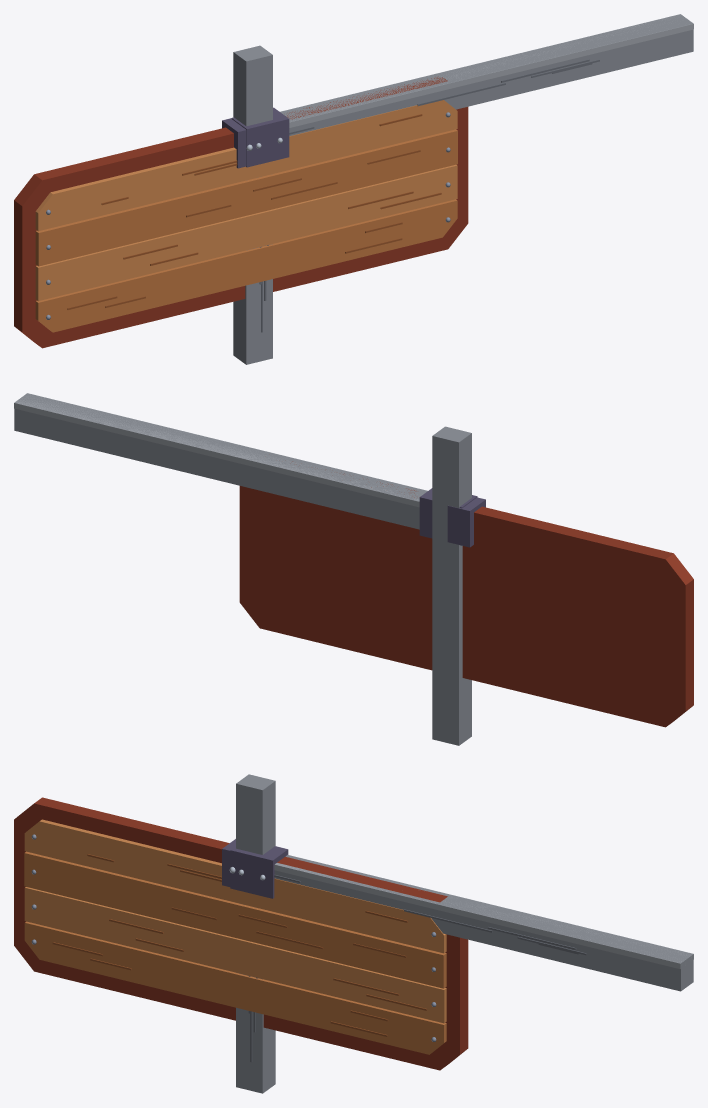
Rendered from sign.glb.
The picture shows the model from 3 angles, top to bottom: view 1: azimuth 30°, elevation 25°; view 2: azimuth 150°, elevation 25°; view 3: azimuth 330°, elevation 25°; orthographic projection.
Visible parts, largest first — view 1: board_frame, nolines_board_plank_1, nolines_board_plank_2, nolines_board_plank_3, nolines_board_plank_0, beam_body, post_body, beam_top, post_bracket, clamp_body; view 2: board_frame, beam_body, post_body, beam_top, clamp_body, post_bracket; view 3: board_frame, nolines_board_plank_1, nolines_board_plank_2, nolines_board_plank_3, nolines_board_plank_0, beam_body, post_body, beam_top, post_bracket.
Boxes of the visible parts, left/top/right/bottom form: board_frame: left=14, top=76, right=468, bottom=348; nolines_board_plank_1: left=35, top=129, right=457, bottom=266; nolines_board_plank_2: left=35, top=164, right=457, bottom=300; nolines_board_plank_3: left=35, top=199, right=457, bottom=332; nolines_board_plank_0: left=35, top=100, right=457, bottom=231; beam_body: left=280, top=14, right=693, bottom=136; post_body: left=233, top=45, right=272, bottom=364; beam_top: left=280, top=14, right=693, bottom=127; post_bracket: left=231, top=107, right=289, bottom=167; clamp_body: left=222, top=118, right=246, bottom=168; board_frame: left=239, top=461, right=693, bottom=727; beam_body: left=14, top=393, right=427, bottom=529; post_body: left=432, top=426, right=471, bottom=745; beam_top: left=14, top=393, right=427, bottom=507; clamp_body: left=447, top=497, right=485, bottom=547; post_bracket: left=419, top=488, right=477, bottom=538; board_frame: left=14, top=797, right=468, bottom=1070; nolines_board_plank_1: left=24, top=851, right=446, bottom=988; nolines_board_plank_2: left=24, top=887, right=446, bottom=1023; nolines_board_plank_3: left=24, top=921, right=446, bottom=1054; nolines_board_plank_0: left=24, top=819, right=446, bottom=953; beam_body: left=274, top=855, right=693, bottom=991; post_body: left=236, top=774, right=275, bottom=1093; beam_top: left=274, top=855, right=693, bottom=969; post_bracket: left=230, top=846, right=288, bottom=898.
Size of the model in its own units: 15 by 6.5 by 0.7.
